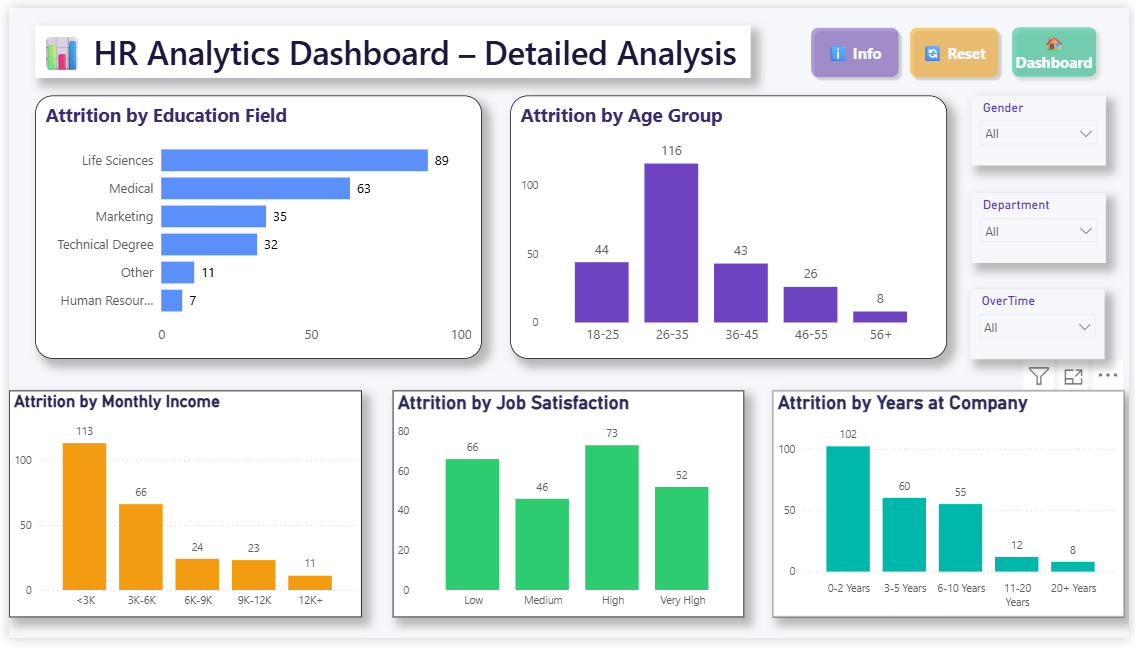

The dashboard page shown, as its layout file describes it:
{"tool":"powerbi","page":{"name":"📊 Detailed Analysis","canvas":[1280,720],"ordinal":1},"visuals":[{"type":"textbox","box":[30,20,818,60.3],"z":0},{"type":"actionButton","box":[909.7,15.7,113.4,70],"z":1000},{"type":"actionButton","box":[1023.1,15.7,114.6,70],"z":2000},{"type":"actionButton","box":[1137.7,13.3,114.6,74.8],"z":3000},{"type":"clusteredBarChart","title":"Attrition by Education Field","fields":{"Category":["hr_cleaned.EducationField"],"Y":["hr_cleaned.Attrition Count"]},"box":[30.2,100.1,510.3,300.4],"z":4000},{"type":"clusteredColumnChart","title":"Attrition by Age Group","fields":{"Category":["hr_cleaned.Age Group"],"Y":["hr_cleaned.Attrition Count"]},"box":[573.1,100.1,499.5,300.4],"z":5000},{"type":"clusteredColumnChart","title":"Attrition by Monthly Income","fields":{"Category":["hr_cleaned.Income Group"],"Y":["hr_cleaned.Attrition Count"]},"box":[0,436.7,403,259.4],"z":6000},{"type":"clusteredColumnChart","title":"Attrition by Job Satisfaction","fields":{"Category":["hr_cleaned.Job Satisfaction Level"],"Y":["hr_cleaned.Attrition Count"]},"box":[437.9,436.7,401.7,259.4],"z":7000},{"type":"clusteredColumnChart","title":"Attrition by Years at Company","fields":{"Y":["hr_cleaned.Attrition Count"],"Category":["hr_cleaned.Years Group"]},"box":[872.3,436.7,401.7,259.4],"z":8000},{"type":"slicer","fields":{"Values":["hr_cleaned.Gender"]},"box":[1100.3,100.1,153.2,79.6],"z":9000},{"type":"slicer","fields":{"Values":["hr_cleaned.Department"]},"box":[1100.3,211.1,153.2,79.6],"z":10000},{"type":"slicer","fields":{"Values":["hr_cleaned.OverTime"]},"box":[1099.1,320.9,153.2,79.6],"z":11000}]}

Visuals, with their boxes in screenshot pixels (x1, y1, x2, y2), scaled from the page's 1280x720 canvas onto the 1135x650 screenshot:
textbox: region(27, 18, 752, 72)
actionButton: region(807, 14, 907, 77)
actionButton: region(907, 14, 1009, 77)
actionButton: region(1009, 12, 1110, 80)
"Attrition by Education Field" clusteredBarChart: region(27, 90, 479, 362)
"Attrition by Age Group" clusteredColumnChart: region(508, 90, 951, 362)
"Attrition by Monthly Income" clusteredColumnChart: region(0, 394, 357, 628)
"Attrition by Job Satisfaction" clusteredColumnChart: region(388, 394, 744, 628)
"Attrition by Years at Company" clusteredColumnChart: region(773, 394, 1130, 628)
slicer - hr_cleaned.Gender: region(976, 90, 1112, 162)
slicer - hr_cleaned.Department: region(976, 191, 1112, 262)
slicer - hr_cleaned.OverTime: region(975, 290, 1110, 362)
